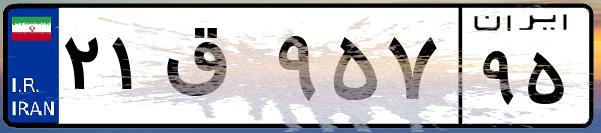1: (110, 28, 158, 98)
2: (57, 26, 110, 100)
5: (330, 28, 385, 110), (525, 38, 570, 115)
7: (385, 28, 445, 110)
9: (270, 28, 330, 110), (475, 38, 525, 113)
ق: (158, 20, 270, 120)
